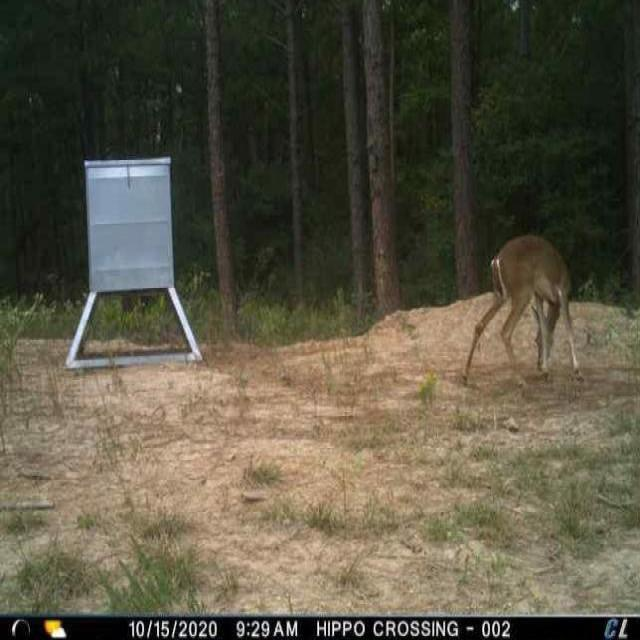deer: (460, 231, 589, 401)
